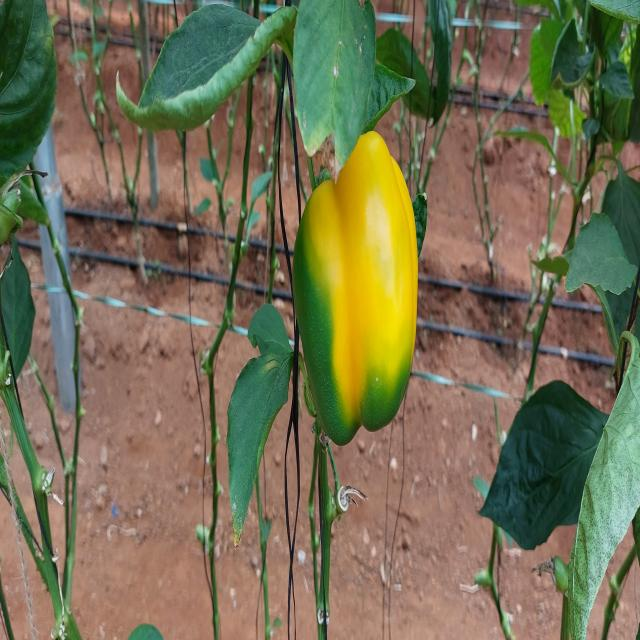GreenishYellow--Can-be-Harvested: (280, 146, 450, 462)
